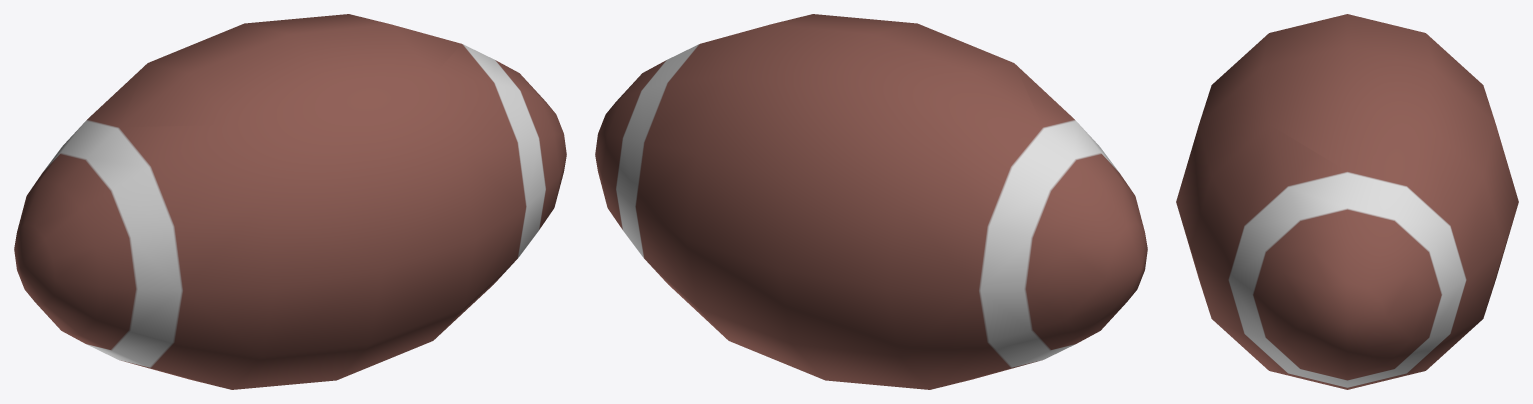
Rendered from item_football.glb.
3 views of the same model, side by side, from view 1: azimuth 30°, elevation 25°; view 2: azimuth 150°, elevation 25°; view 3: azimuth 270°, elevation 25° (orthographic). The views are drawn at different scales.
Visible parts, largest first — view 1: Football; view 2: Football; view 3: Football.
Part boxes in pixels (x1,y1,x2,y2): Football: (14, 14, 566, 389); Football: (595, 14, 1147, 389); Football: (1176, 14, 1518, 389).
Size of the model in its own units: 0.3478 by 0.2056 by 0.2055.
